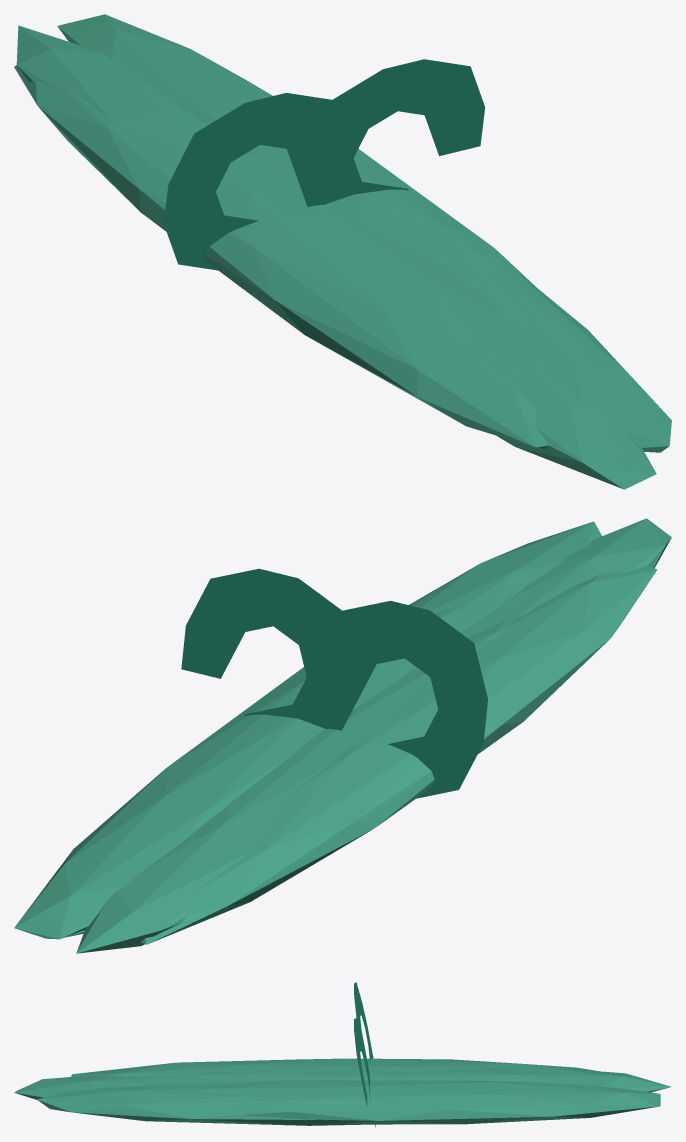
Rendered from haplopteris-elongata.glb.
The picture shows the model from 3 angles, top to bottom: view 1: azimuth 30°, elevation 25°; view 2: azimuth 150°, elevation 25°; view 3: azimuth 270°, elevation 25°; orthographic projection. The views are drawn at different scales.
Visible parts, largest first — view 1: frond3, frond0, frond4, fiddle1, fiddle-1, frond1, frond2; view 2: frond3, frond0, frond4, fiddle-1, fiddle1, frond1, frond2; view 3: frond0, frond1, frond4, frond3, frond2, fiddle-1, fiddle1.
Part boxes in pixels (x1,y1,x2,y2): frond3: (14, 65, 549, 448); frond0: (57, 14, 580, 335); frond4: (16, 25, 474, 342); fiddle1: (301, 59, 485, 206); fiddle-1: (163, 93, 345, 270); frond1: (441, 270, 671, 452); frond2: (447, 302, 656, 489); frond3: (140, 565, 657, 944); frond0: (14, 591, 458, 939); frond4: (76, 618, 515, 953); fiddle-1: (313, 600, 487, 798); fiddle1: (181, 568, 356, 730); frond1: (409, 521, 601, 632); frond2: (461, 518, 671, 637); frond0: (170, 1080, 660, 1124); frond1: (37, 1083, 360, 1125); frond4: (187, 1066, 671, 1092); frond3: (71, 1058, 598, 1076); frond2: (14, 1075, 234, 1099); fiddle-1: (354, 982, 373, 1062); fiddle1: (354, 1018, 375, 1127).
Size of the model in its own units: 0.184 by 0.1057 by 0.6218.
